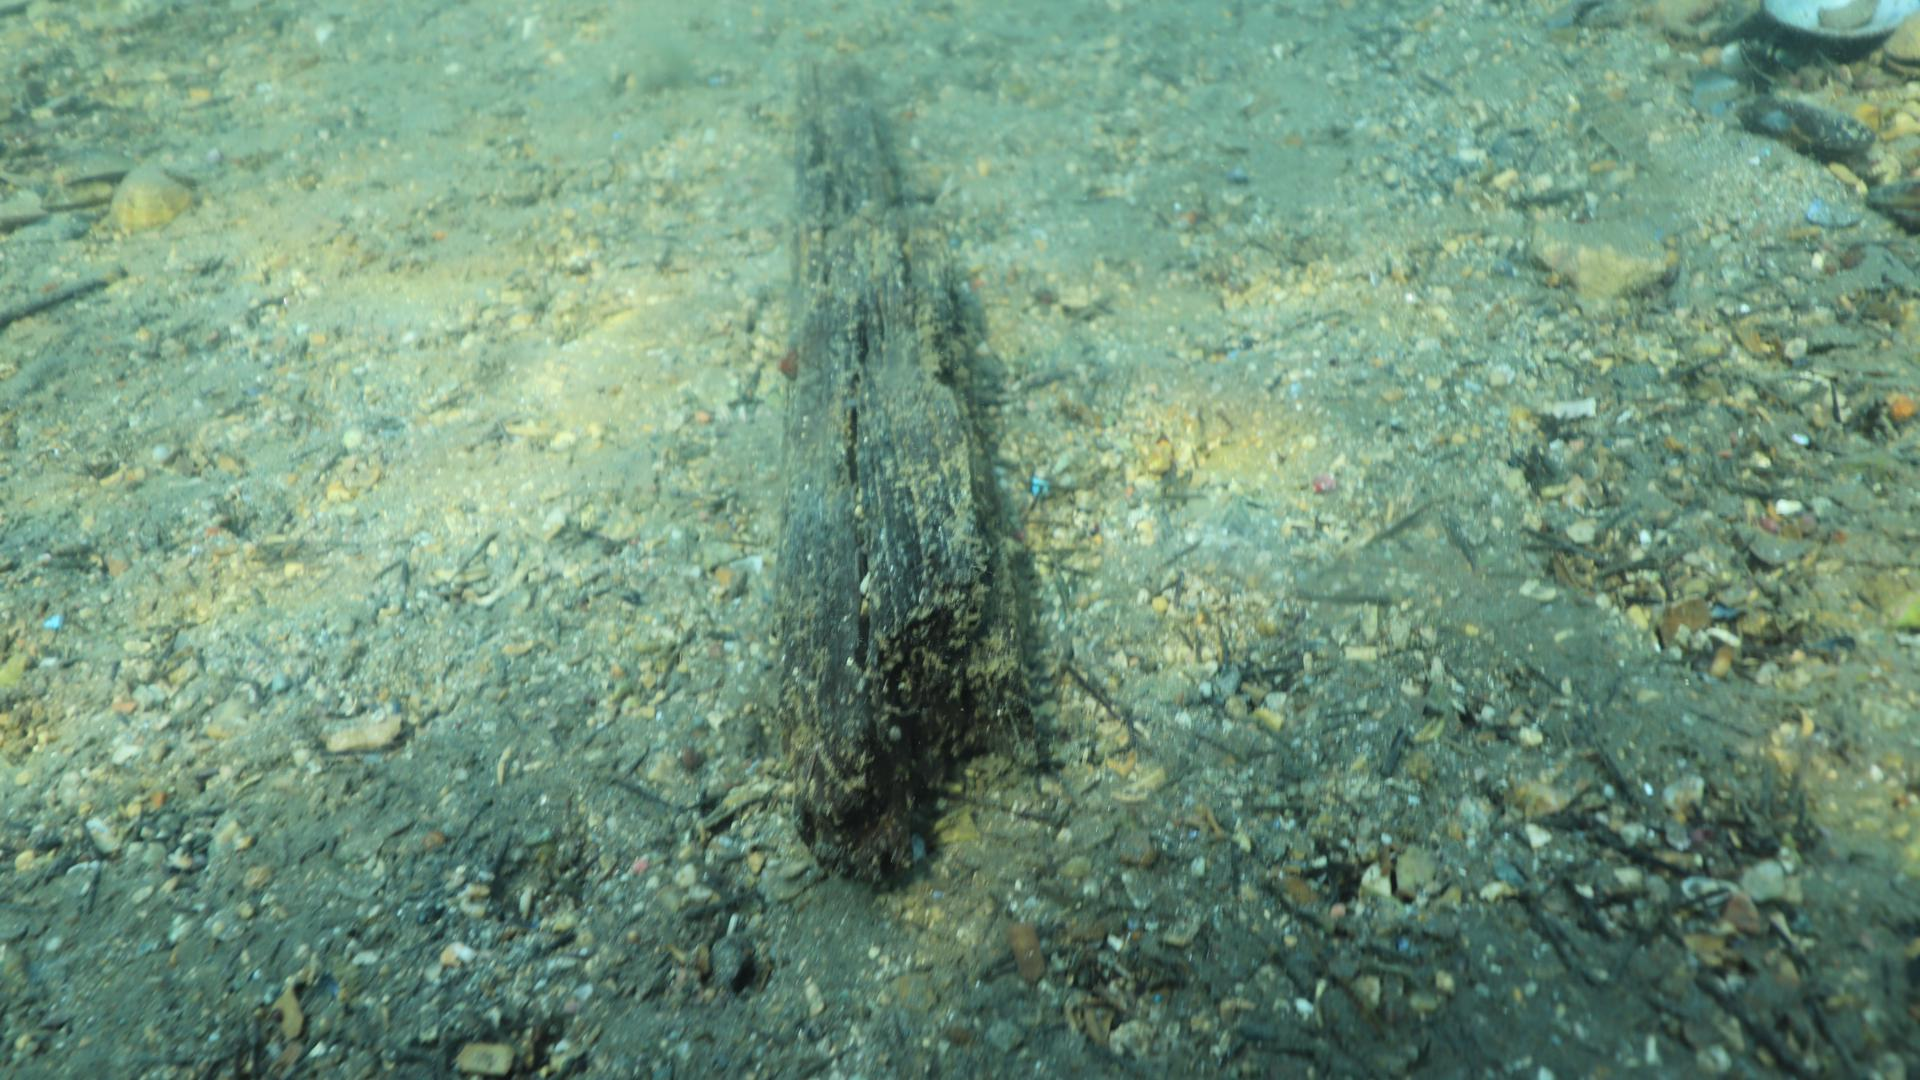wood: (773, 50, 1040, 893)
